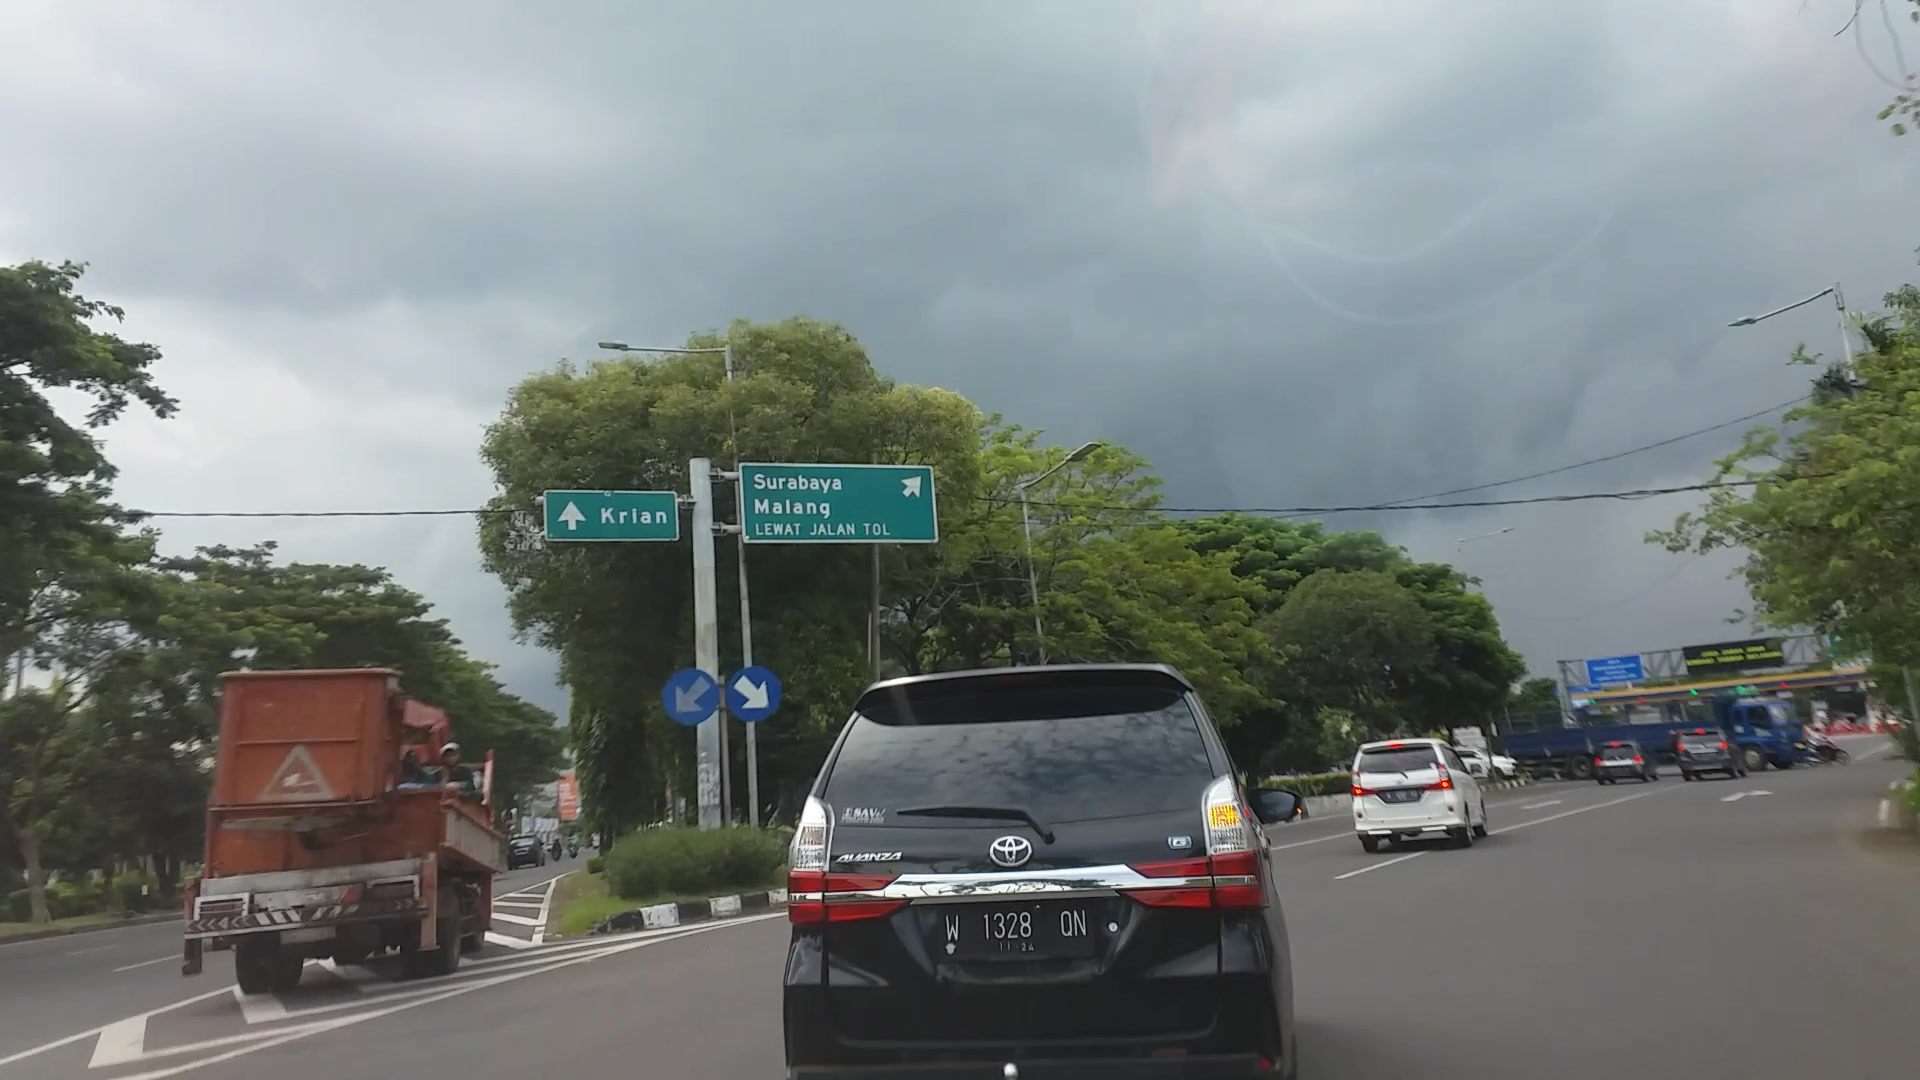plate_positive: (938, 906, 1092, 957)
